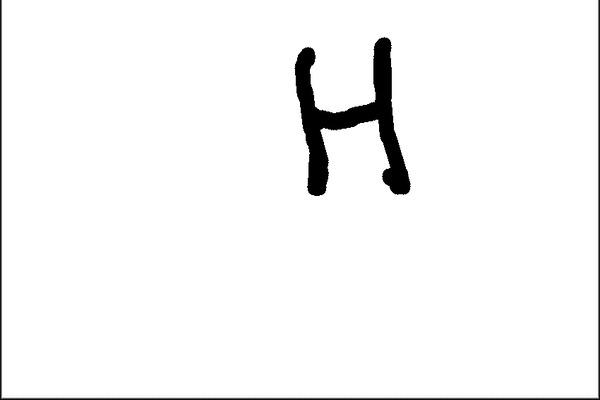H: (290, 36, 414, 198)
